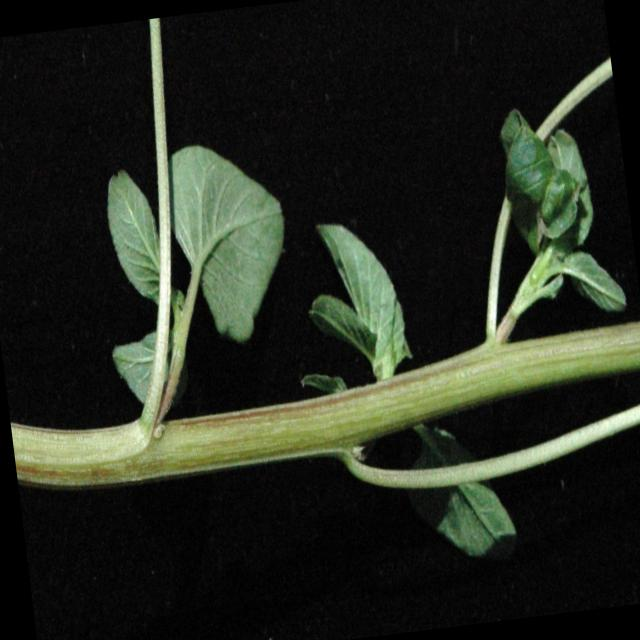Medicinal-Arive Dantu: (85, 128, 312, 408), (304, 220, 424, 386)
